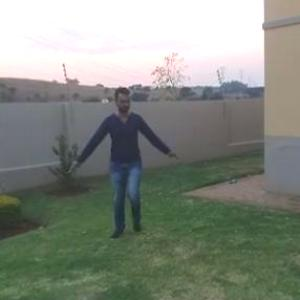land: (72, 78, 180, 237)
